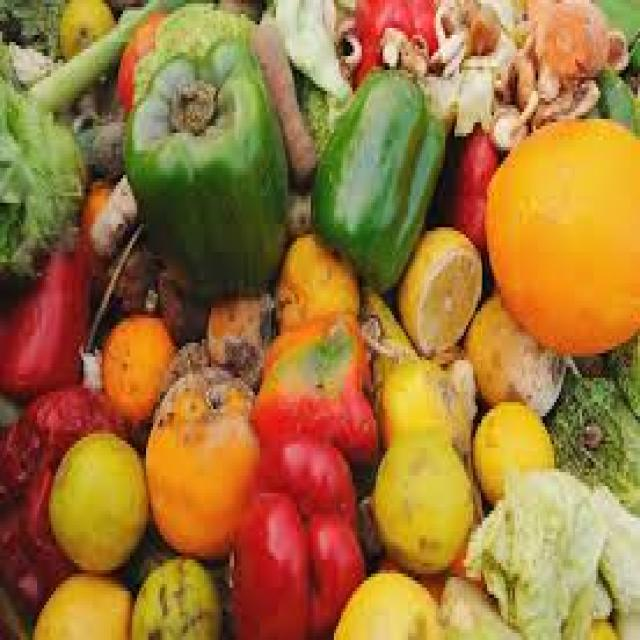Organik: (235, 276, 388, 640), (482, 72, 640, 370), (116, 37, 298, 288), (0, 0, 141, 309), (131, 334, 268, 566), (306, 66, 451, 281), (364, 402, 490, 587), (38, 420, 166, 577), (393, 216, 498, 374)
